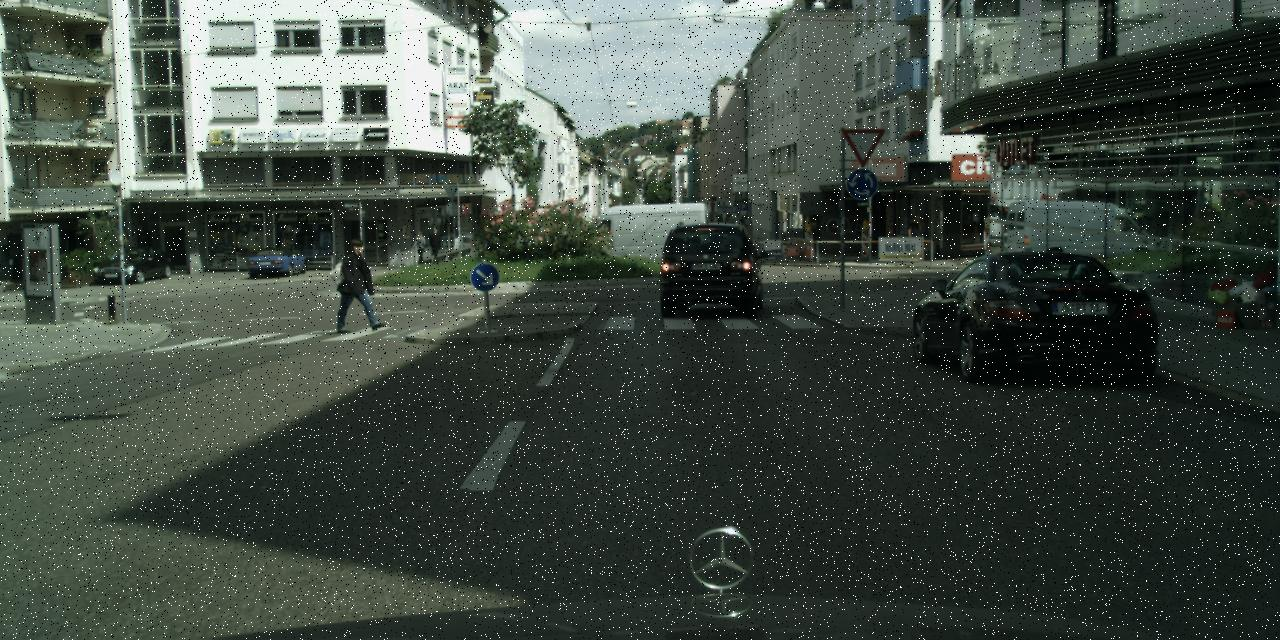ped: (341, 238, 378, 329), (908, 215, 924, 254), (427, 226, 442, 267), (412, 232, 428, 268)
